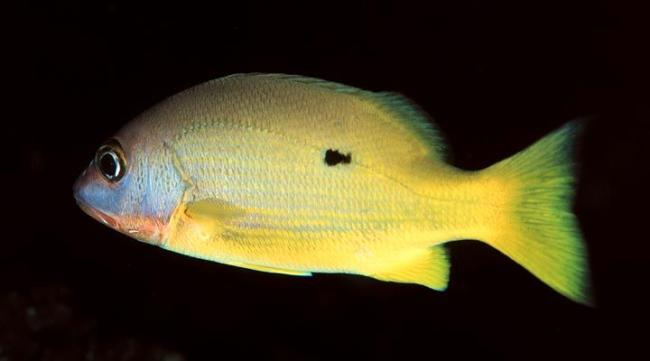fish: (74, 73, 591, 305)
